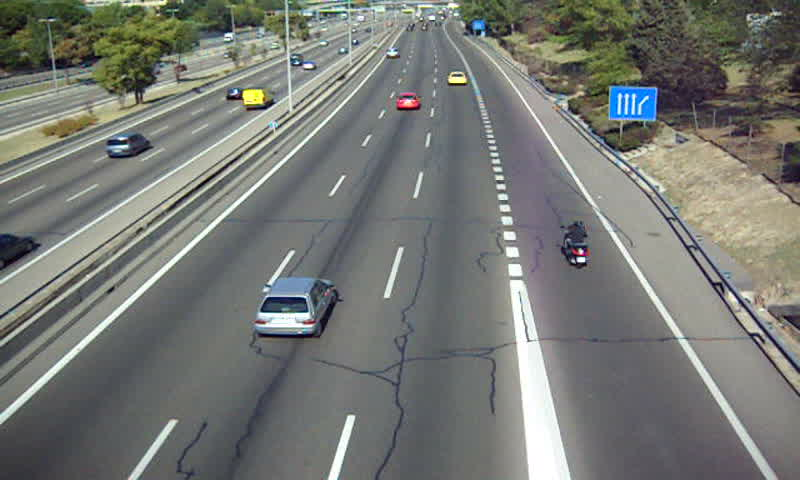car: (254, 277, 334, 336), (394, 90, 420, 109), (448, 72, 468, 87), (385, 47, 400, 58)
motorcycle: (562, 220, 591, 268)
